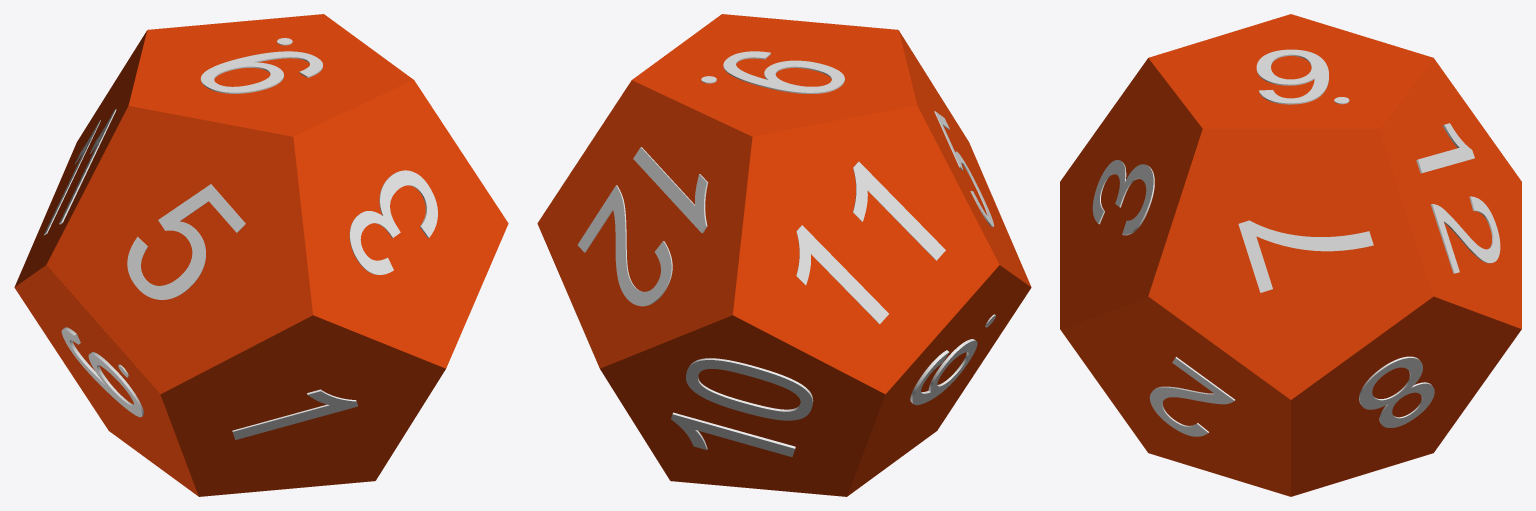
3 views of the same model, side by side, from view 1: azimuth 30°, elevation 25°; view 2: azimuth 150°, elevation 25°; view 3: azimuth 270°, elevation 25° (orthographic). The views are drawn at different scales.
Visible parts, largest first — view 1: Icosphere.001, 5.002, 3.002, 9.001, 1.002, 6.002, 11.001; view 2: Icosphere.001, 10.001, 12.001, 11.001, 9.001, 6.002, 5.002; view 3: Icosphere.001, 12.001, 7.001, 8.001, 9.001, 2.002, 3.002.
Part boxes in pixels (x1,y1,x2,y2): Icosphere.001: (14, 14, 508, 496); 5.002: (127, 184, 245, 299); 3.002: (349, 170, 437, 274); 9.001: (200, 51, 322, 93); 1.002: (232, 389, 357, 439); 6.002: (61, 327, 143, 417); 11.001: (44, 109, 116, 235); Icosphere.001: (537, 14, 1031, 496); 10.001: (671, 358, 813, 456); 12.001: (577, 147, 708, 306); 11.001: (796, 161, 945, 324); 9.001: (723, 51, 844, 93); 6.002: (910, 339, 977, 405); 5.002: (934, 111, 994, 227); Icosphere.001: (1060, 14, 1521, 496); 12.001: (1416, 123, 1500, 273); 7.001: (1238, 220, 1373, 292); 8.001: (1359, 356, 1434, 427); 9.001: (1256, 49, 1328, 104); 2.002: (1149, 357, 1234, 436); 3.002: (1092, 160, 1154, 235).
Bounding box in the file's own units: 1.53 × 1.25 × 1.46.
